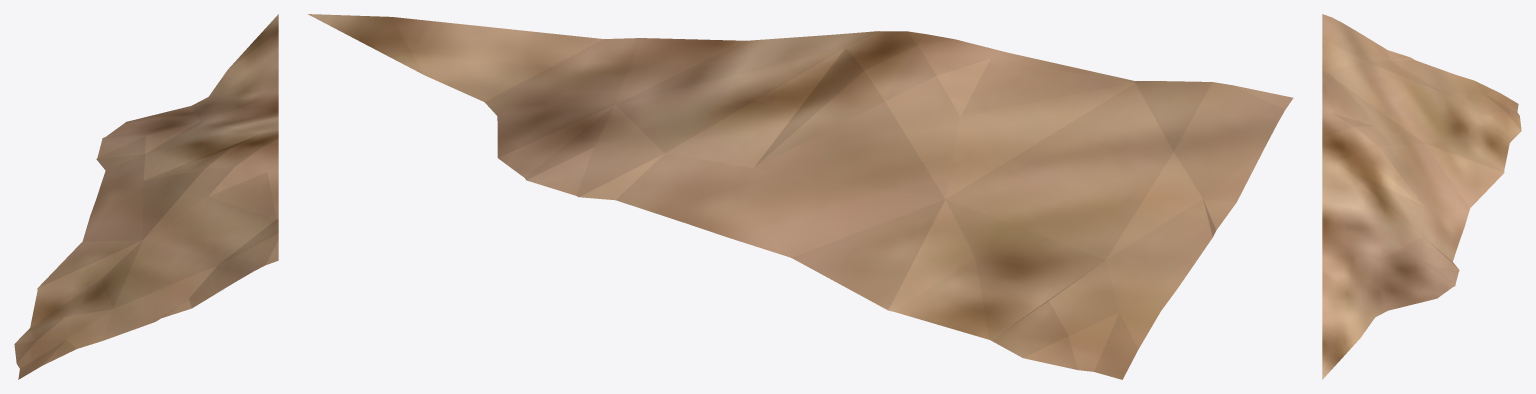
3 views of the same model, side by side, from view 1: azimuth 90°, elevation 25°; view 2: azimuth 150°, elevation 25°; view 3: azimuth 270°, elevation 25° (orthographic). The views are drawn at different scales.
Bounding box in the file's own units: 0.2817 × 0.0428 × 0.0859.
1 material, 1 textured.
